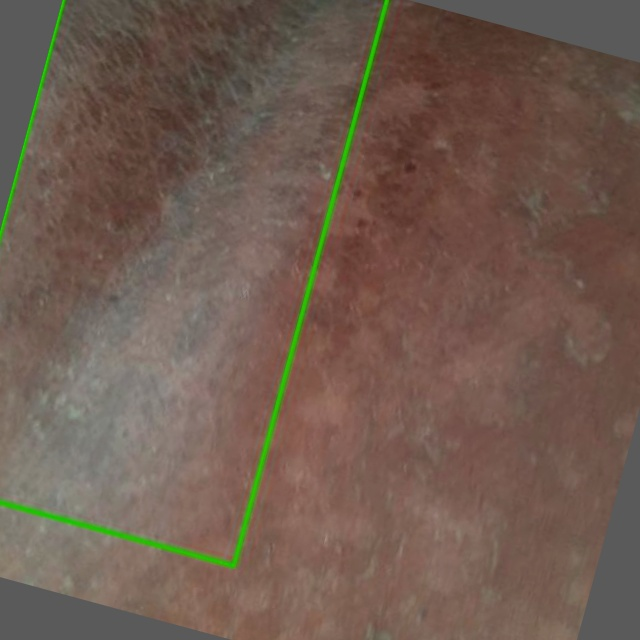Seborrheic Dermatitis: (0, 0, 386, 565)
